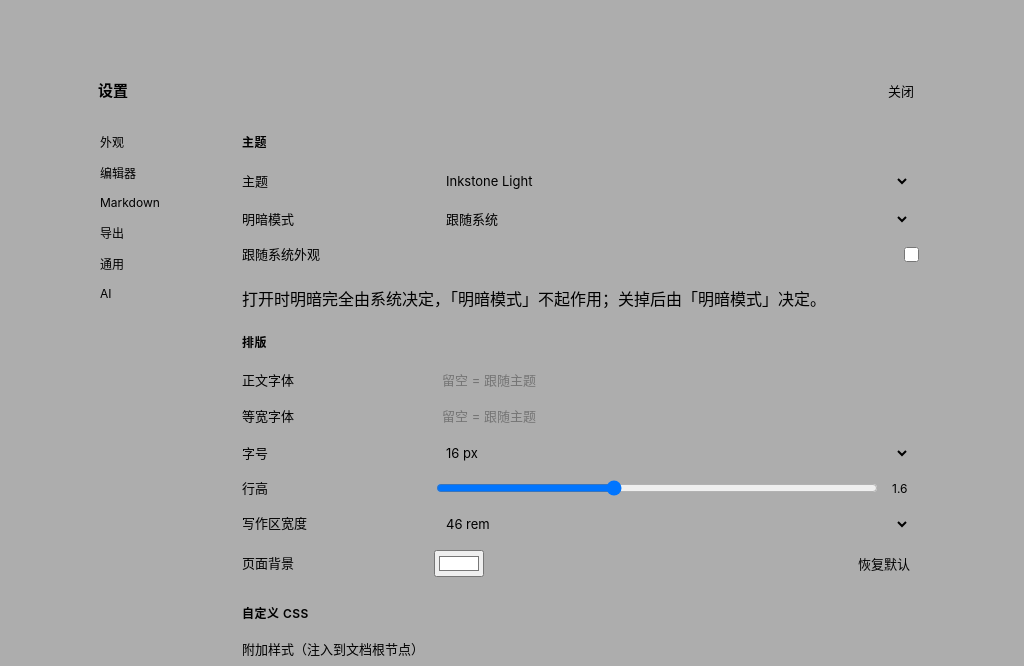
Test: 界面层：开关打开时下拉框置灰 › 点开复选框，下拉框当场变灰（不是只在启动时算一次）
expect the dropdown showing "跟随系统" is enabled: met, box [434,206,910,232]
Click the checkbox labelled "跟随系统外观" at (912, 255), box [904,247,919,262]
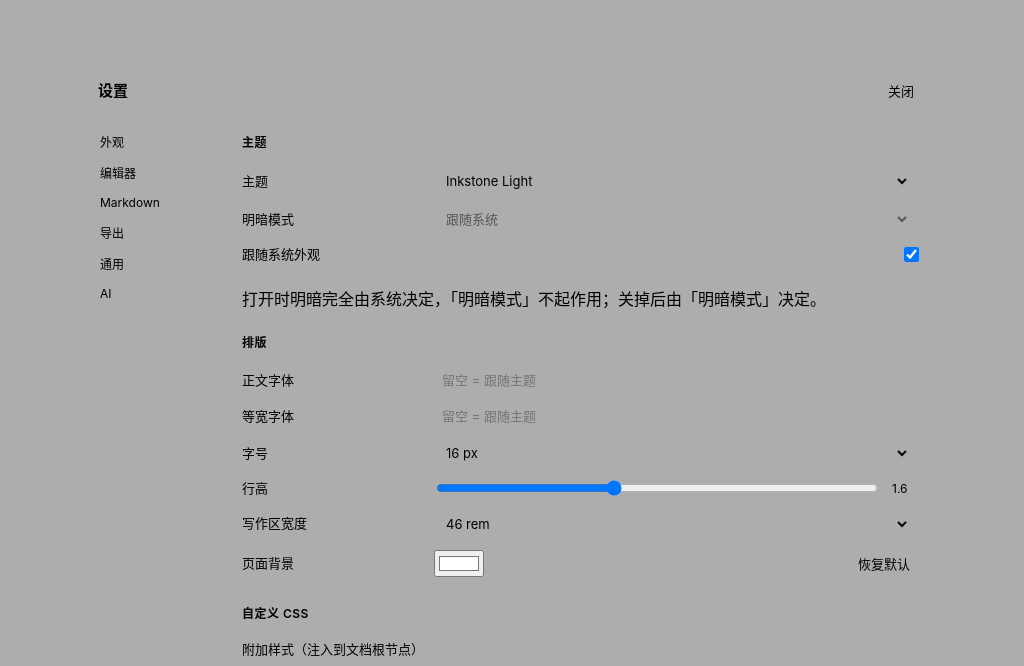
expect the dropdown showing "跟随系统" is disabled: met, box [434,206,910,232]
